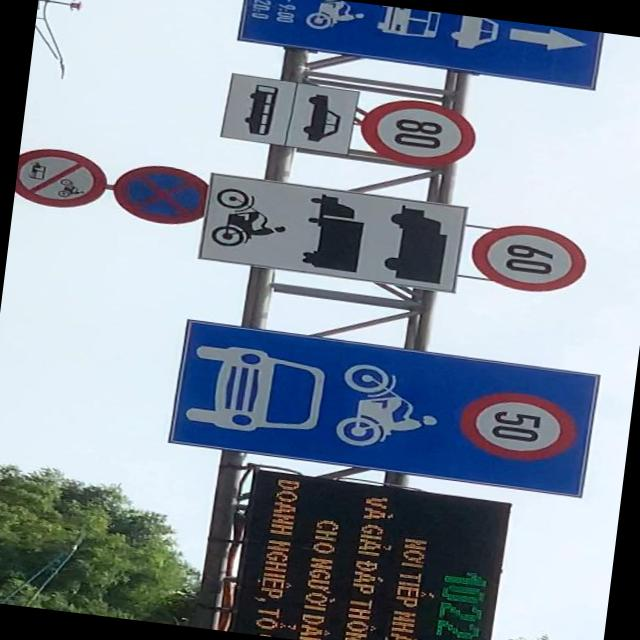P-127: (466, 220, 590, 298), (360, 94, 480, 170)
P-130: (110, 158, 209, 227)
